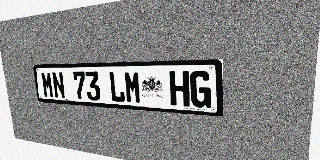3: (85, 71, 101, 101)
7: (72, 71, 87, 100)
G: (190, 70, 211, 108)
H: (169, 71, 190, 107)
L: (108, 71, 125, 103)
M: (124, 71, 142, 104), (41, 72, 54, 98)
N: (51, 72, 66, 99)
